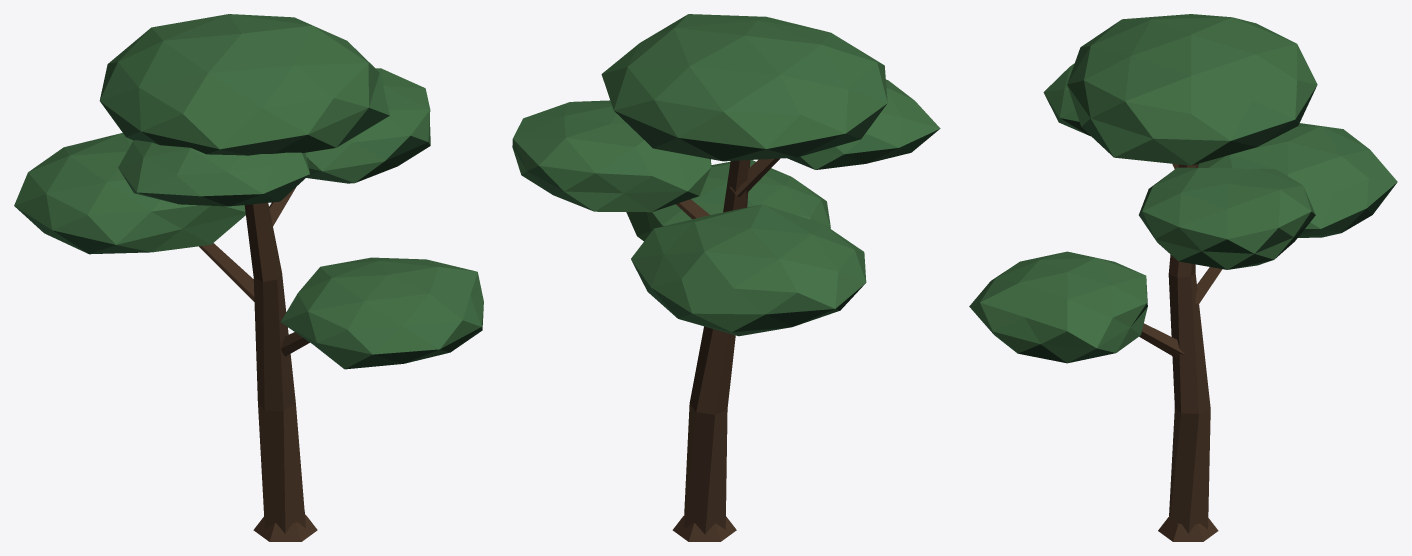
The model's file is pine_b.glb.
3 views of the same model, side by side, from view 1: azimuth 30°, elevation 25°; view 2: azimuth 150°, elevation 25°; view 3: azimuth 270°, elevation 25° (orthographic). The views are drawn at different scales.
Visible parts, largest first — view 1: pine_b; view 2: pine_b; view 3: pine_b.
Boxes of the visible parts, left/top/right/bottom form: pine_b: left=14, top=14, right=483, bottom=541; pine_b: left=512, top=14, right=940, bottom=541; pine_b: left=969, top=14, right=1397, bottom=541.
Bounding box in the file's own units: 2.59 × 3.47 × 2.82.
